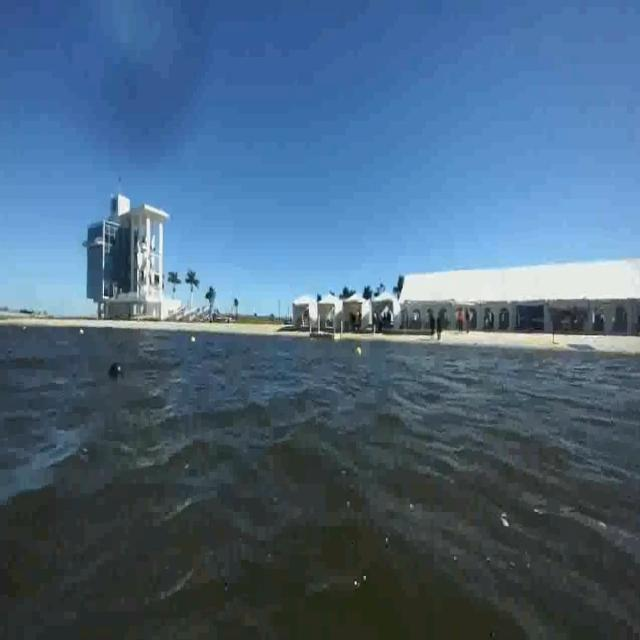black-buoy: (107, 362, 124, 382)
yellow-buoy: (355, 346, 363, 358)
